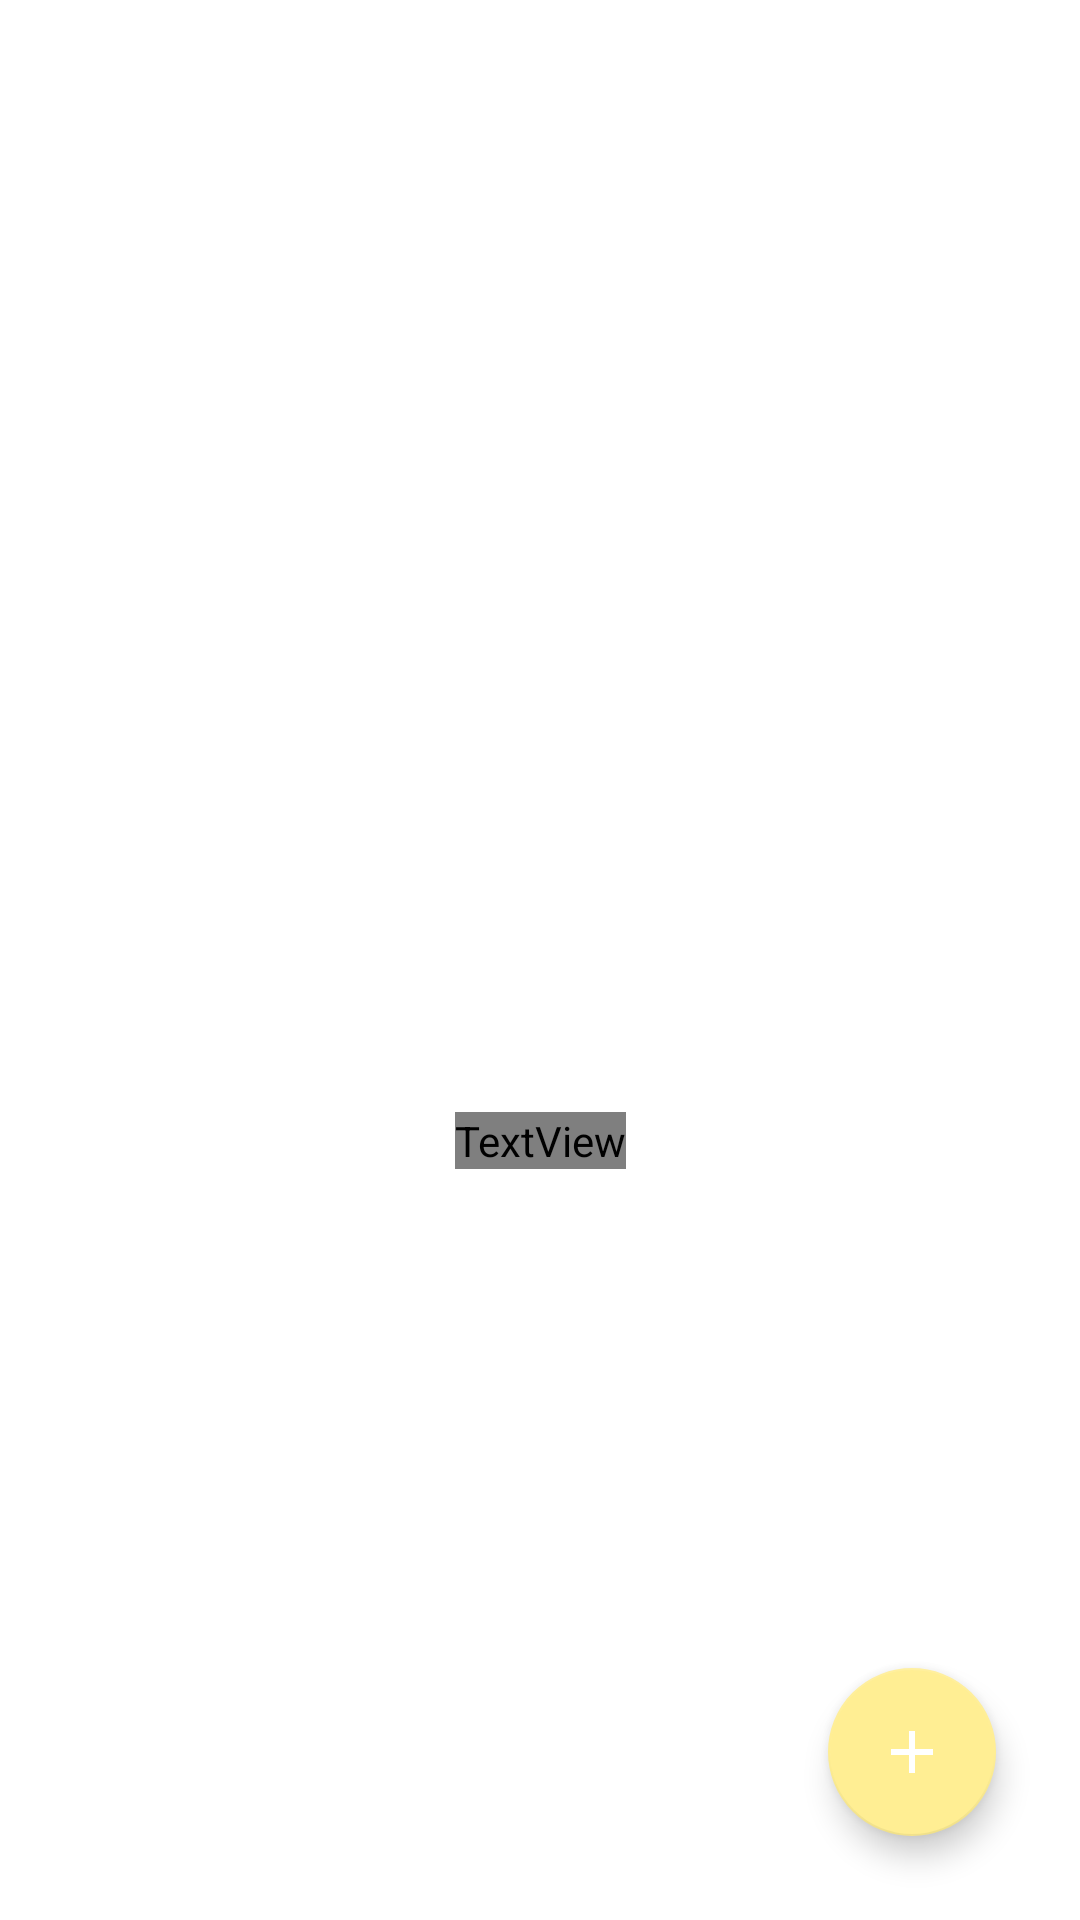

Screen size 1080px x 1920px. Icon name, then its box in pixels as {"left": x1, "top": y1, "right": x2, "bottom": y2}:
add: {"left": 828, "top": 1668, "right": 996, "bottom": 1836}
